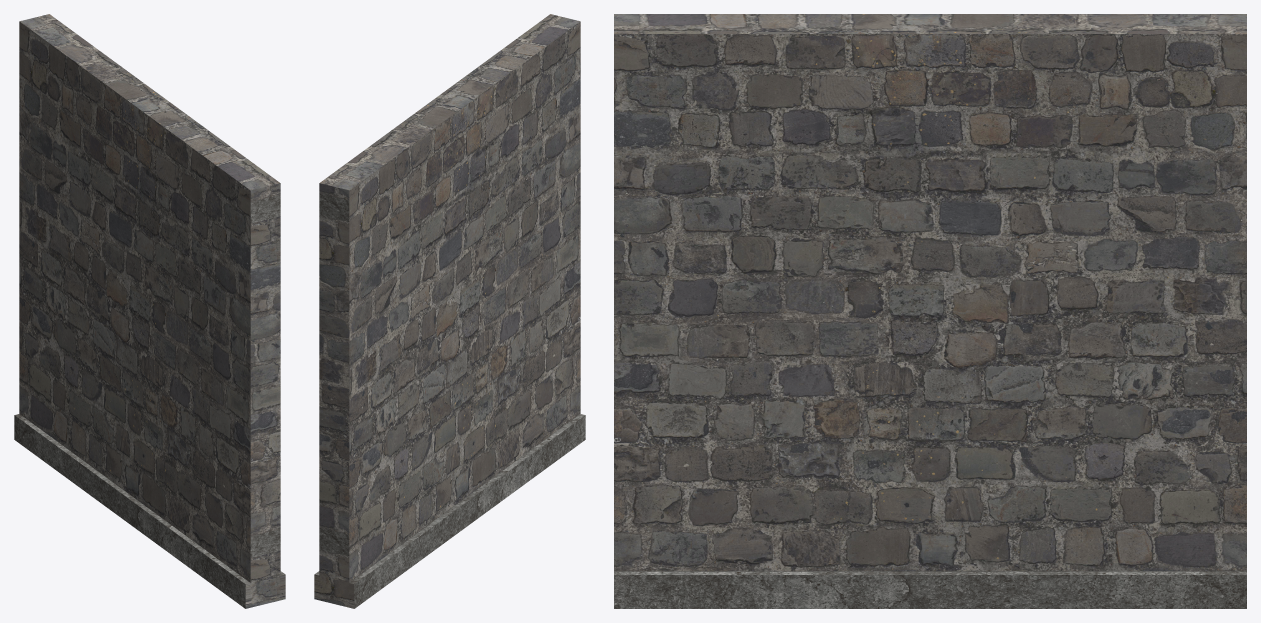
The model's file is Wall_1.fbx.
3 renders of one model, left to right at view 1: azimuth 30°, elevation 25°; view 2: azimuth 150°, elevation 25°; view 3: azimuth 270°, elevation 25°, orthographic. The views are drawn at different scales.
Visible parts, largest first — view 1: wall.002; view 2: wall.002; view 3: wall.002.
Part boxes in pixels (x1,y1,x2,y2): wall.002: (14,14,285,608); wall.002: (314,14,585,608); wall.002: (614,14,1246,608).
Size of the model in its own units: 40 by 399 by 400.
Materials: 1 (1 with a texture image).
